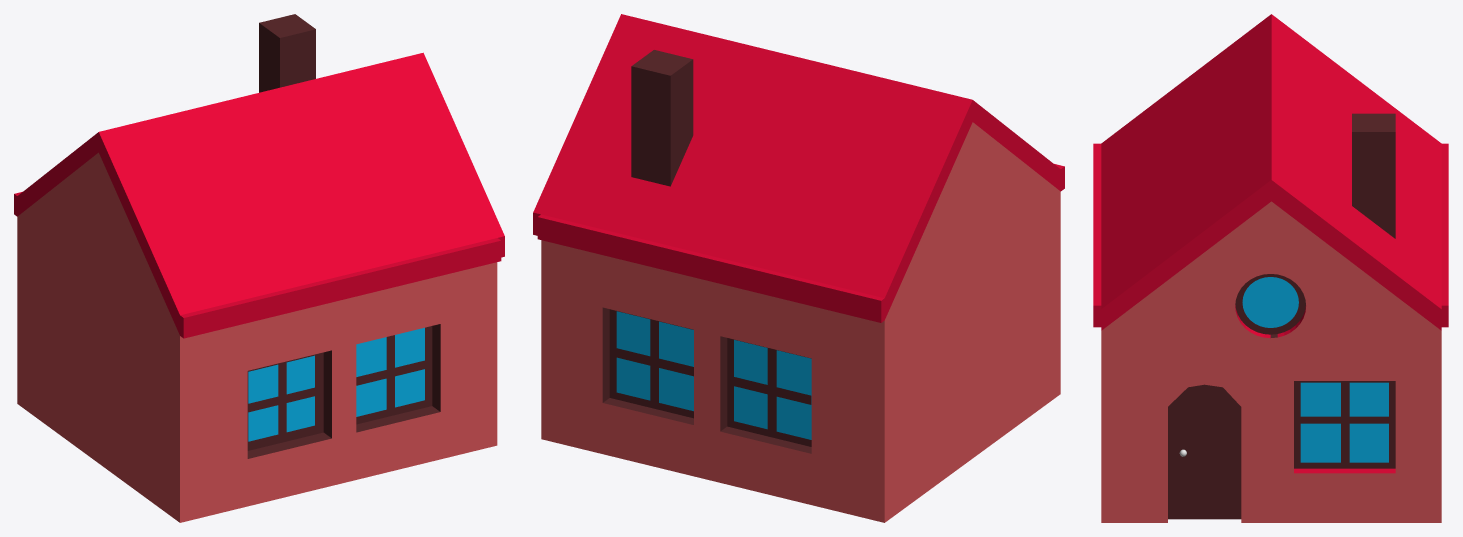
File: Red House 1.fbx
The picture shows the model from 3 angles, left to right: view 1: azimuth 30°, elevation 25°; view 2: azimuth 150°, elevation 25°; view 3: azimuth 270°, elevation 25°; orthographic projection. The views are drawn at different scales.
Parts seen in each view (by area): view 1: Cube, Cube.001; view 2: Cube, Cube.001; view 3: Cube, Cube.001.
Part boxes in pixels (left/top/right/bottom): Cube: left=14, top=52, right=504, bottom=522; Cube.001: left=259, top=14, right=315, bottom=92; Cube: left=533, top=14, right=1064, bottom=522; Cube.001: left=631, top=50, right=693, bottom=186; Cube: left=1093, top=14, right=1448, bottom=522; Cube.001: left=1352, top=113, right=1395, bottom=238.
Bounding box in the file's own units: 258 × 261 × 234.
